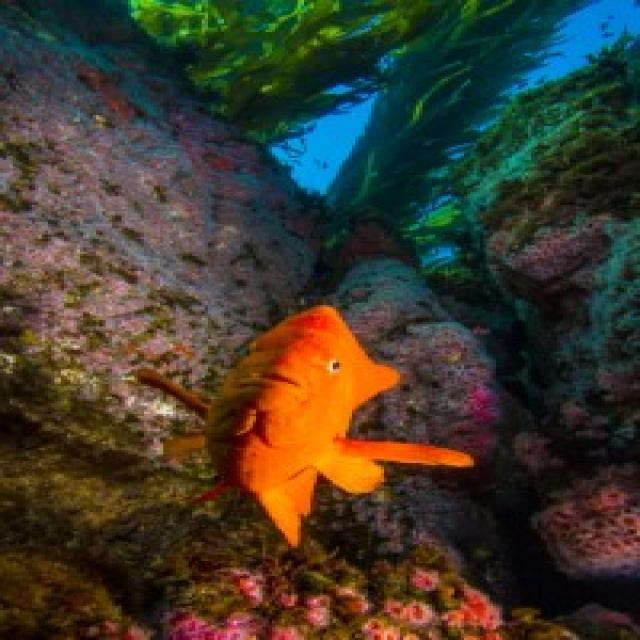Healthy: (1, 1, 311, 453), (327, 1, 580, 229), (334, 261, 503, 554), (129, 1, 436, 140), (459, 44, 638, 234), (161, 554, 500, 639), (532, 468, 638, 577), (487, 210, 606, 300)
